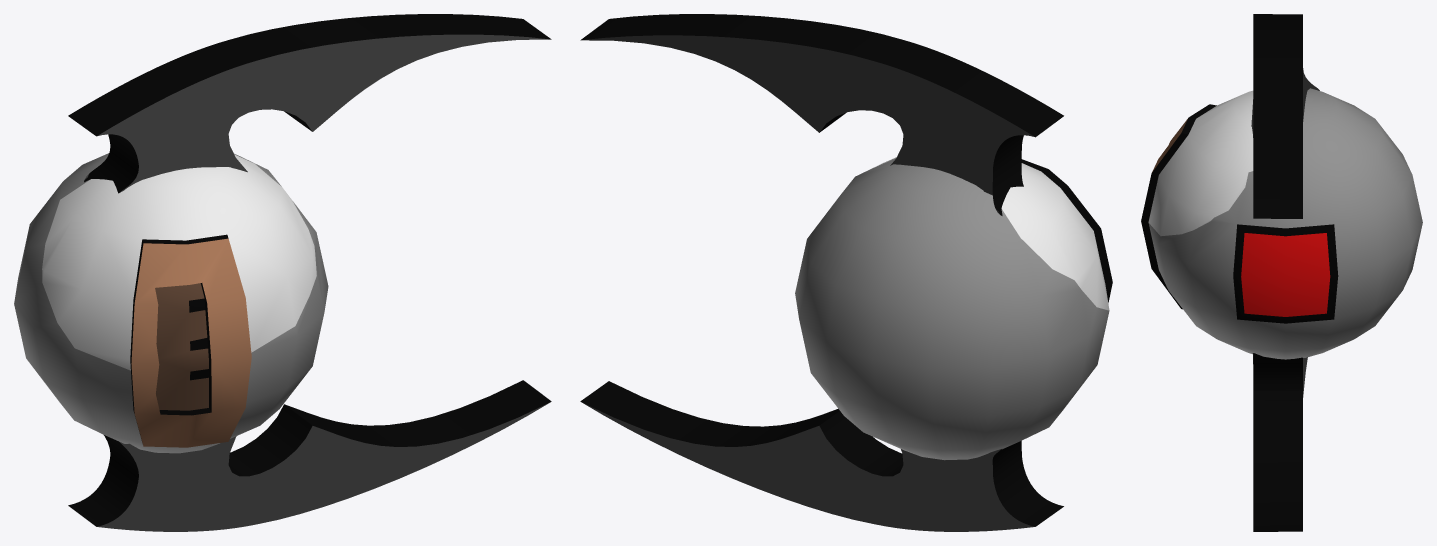
Rendered from turret_5_2.glb.
The picture shows the model from 3 angles, left to right: view 1: azimuth 30°, elevation 25°; view 2: azimuth 150°, elevation 25°; view 3: azimuth 270°, elevation 25°; orthographic projection. The views are drawn at different scales.
Parts seen in each view (by area): view 1: Turret2, Turret2.001, Turret2.002; view 2: Turret2, Turret2.001, Turret2.002; view 3: Turret2, Turret2.001, Turret2.002.
Part boxes in pixels (<box>): Turret2: <box>14,153,328,453</box>; Turret2.001: <box>68,14,551,193</box>; Turret2.002: <box>68,380,551,531</box>; Turret2: <box>795,157,1112,460</box>; Turret2.001: <box>580,14,1063,215</box>; Turret2.002: <box>580,381,1063,531</box>; Turret2: <box>1141,88,1422,359</box>; Turret2.001: <box>1251,14,1319,218</box>; Turret2.002: <box>1252,353,1307,531</box>.
Size of the model in its own units: 1.8 by 1.6 by 1.02.
